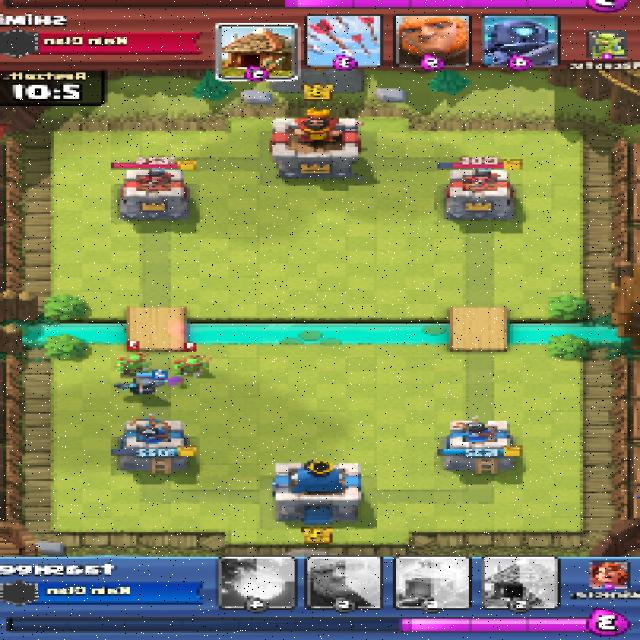Enemy-SpearGoblin: (174, 352, 215, 377), (117, 351, 148, 374)
Player-MiniPEKKA: (116, 374, 170, 395)
